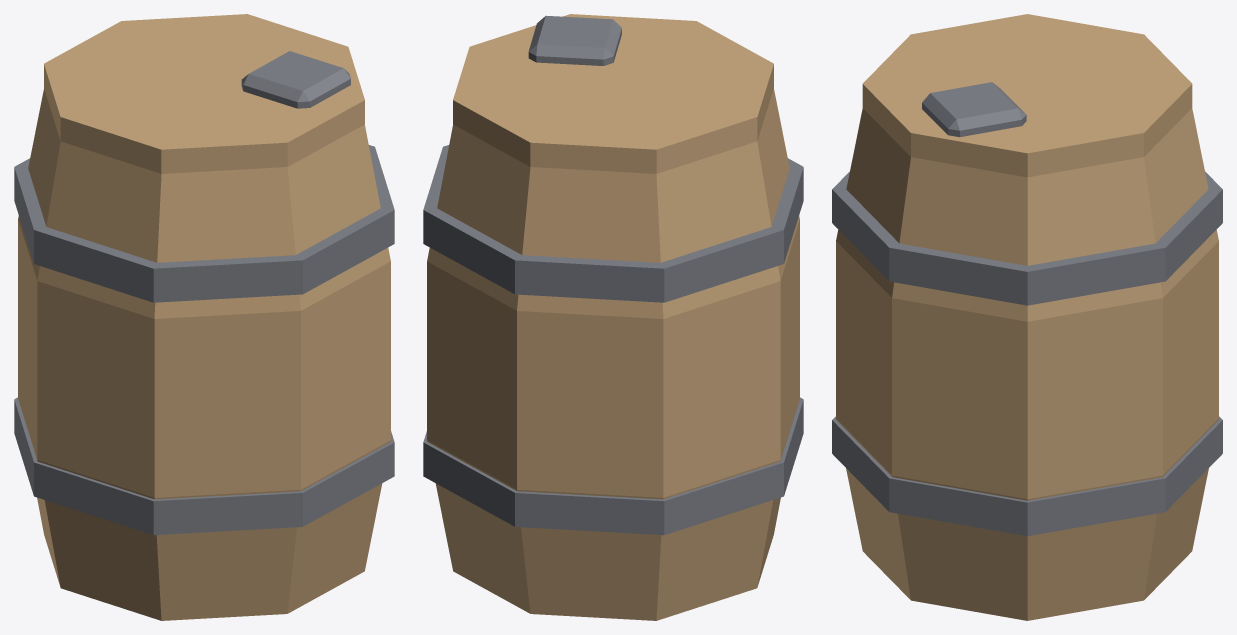
The model's file is barrel.glb.
3 views of the same model, side by side, from view 1: azimuth 30°, elevation 25°; view 2: azimuth 150°, elevation 25°; view 3: azimuth 270°, elevation 25° (orthographic).
Visible parts, largest first — view 1: barrel; view 2: barrel; view 3: barrel.
Part boxes in pixels (left/top/right/bottom): barrel: left=14, top=14, right=394, bottom=620; barrel: left=423, top=14, right=803, bottom=620; barrel: left=832, top=14, right=1222, bottom=620.
Size of the model in its own units: 0.7344 by 1 by 0.7344.
